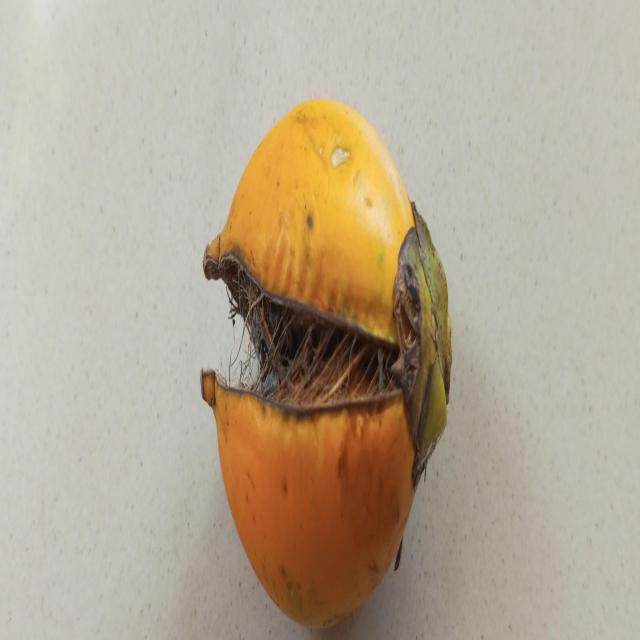damaged: (201, 100, 452, 627)
